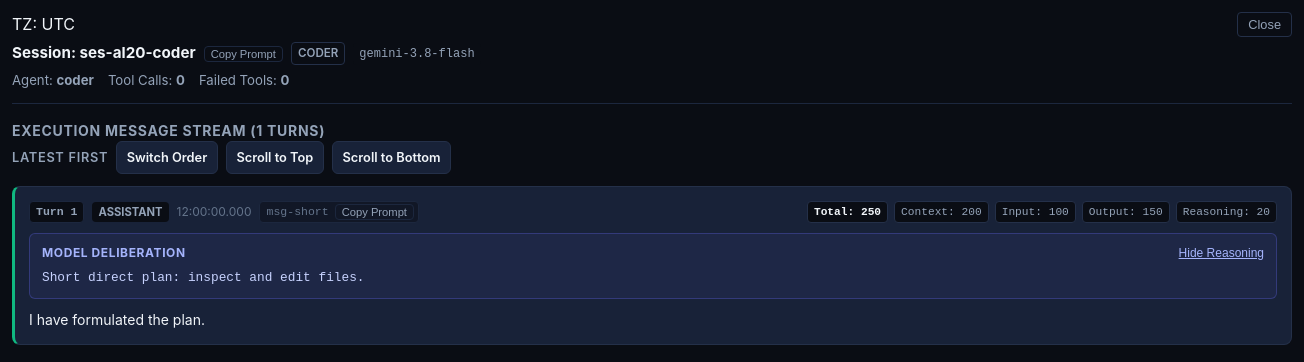
Test: LiveTraceInspector Component › handles short model reasoning blocks by showing full deliberation initially with Hide Reasoning button
The width and height of the screenshot is (1304, 362).
Check: the element with test id "reasoning-bubble" is shown, box left=29, top=233, right=1277, bottom=299
Check: the text "Short direct plan: inspect and edit files." is shown, box left=42, top=270, right=364, bottom=285
# Clicking Hide Reasoning toggles state
Click the button "Hide Reasoning": (1221, 253) left=1179, top=246, right=1264, bottom=260
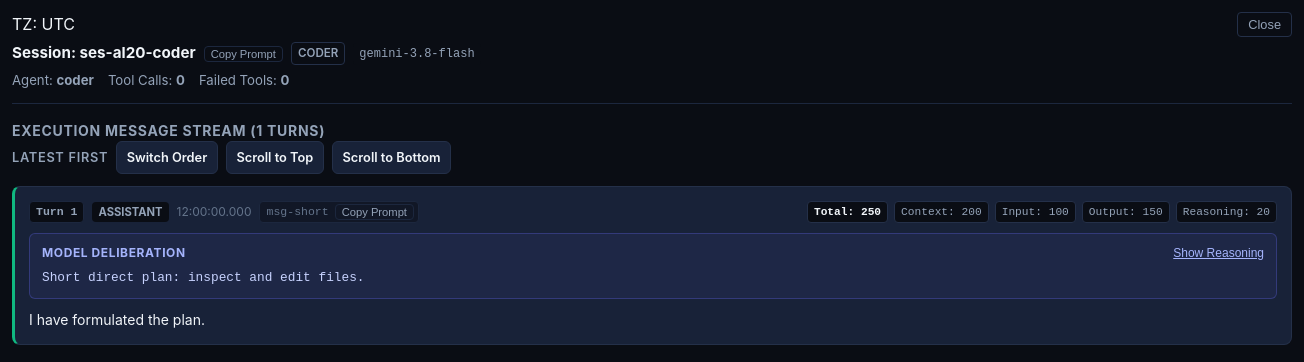
Check: the button "Show Reasoning" is shown, box left=1173, top=246, right=1264, bottom=260
